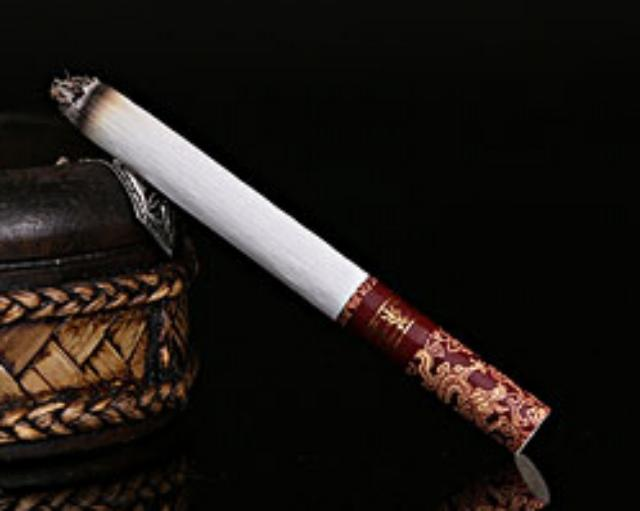Cigarette: (47, 67, 555, 460)
